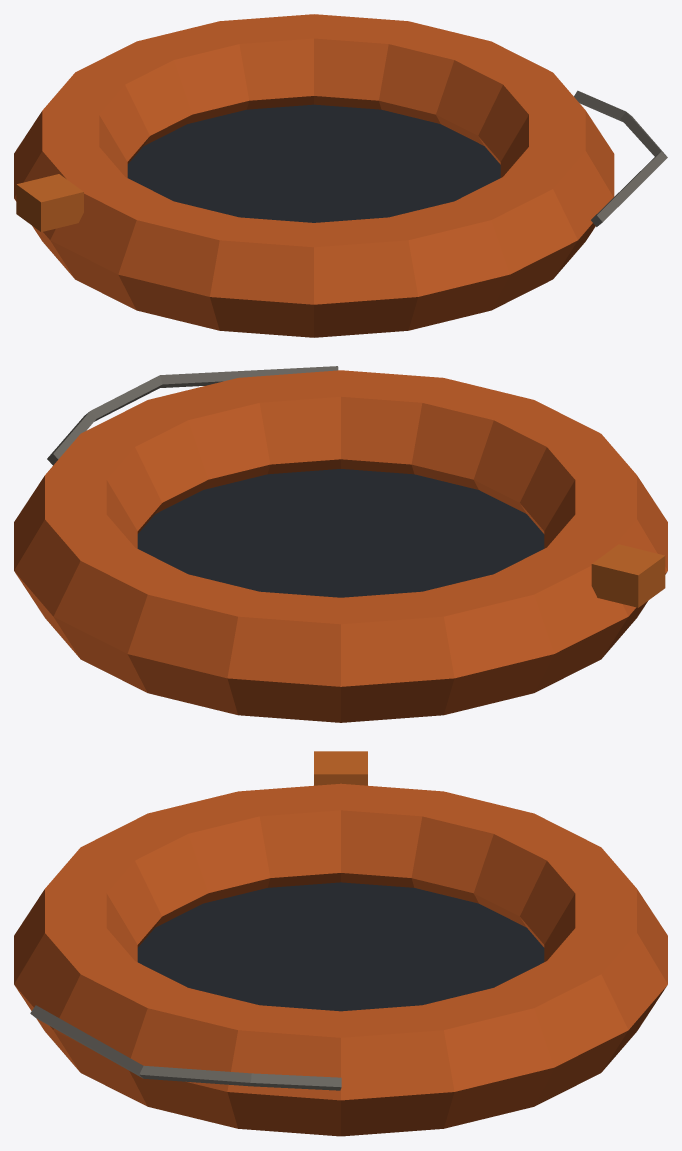
The model's file is emergency-raft.glb.
The picture shows the model from 3 angles, top to bottom: view 1: azimuth 30°, elevation 25°; view 2: azimuth 150°, elevation 25°; view 3: azimuth 270°, elevation 25°; orthographic projection. The views are drawn at different scales.
Visible parts, largest first — view 1: m; view 2: m; view 3: m.
Part boxes in pixels (left/top/right/bottom): m: left=14, top=14, right=667, bottom=337; m: left=14, top=366, right=667, bottom=722; m: left=14, top=751, right=667, bottom=1136.
Size of the model in its own units: 0.4 by 0.0663 by 0.3699.
